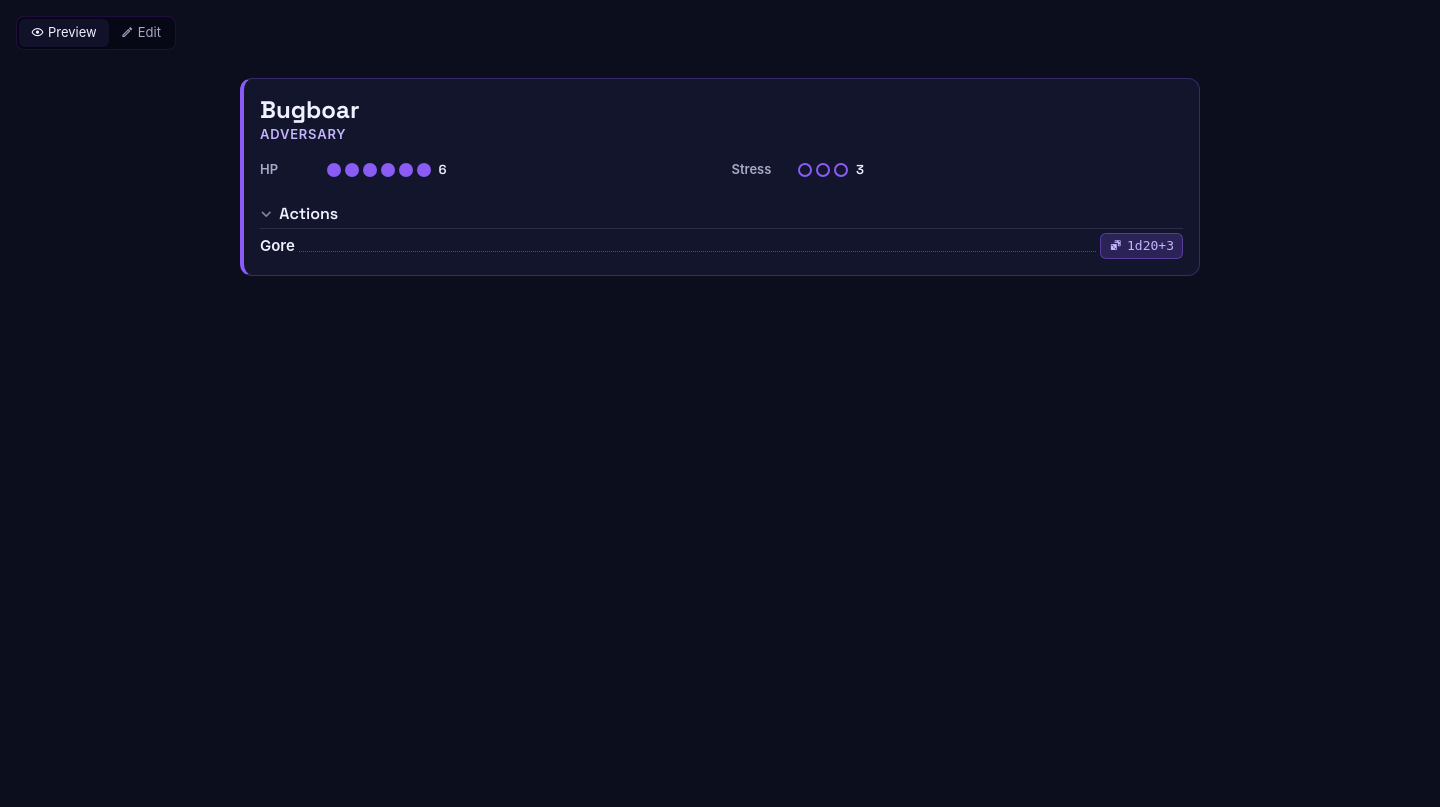
it: SheetBuilder › shows the sheet as forms, and sends nothing until something changes
Click the button "Edit": coordinates (141, 33) [109,19,173,46]
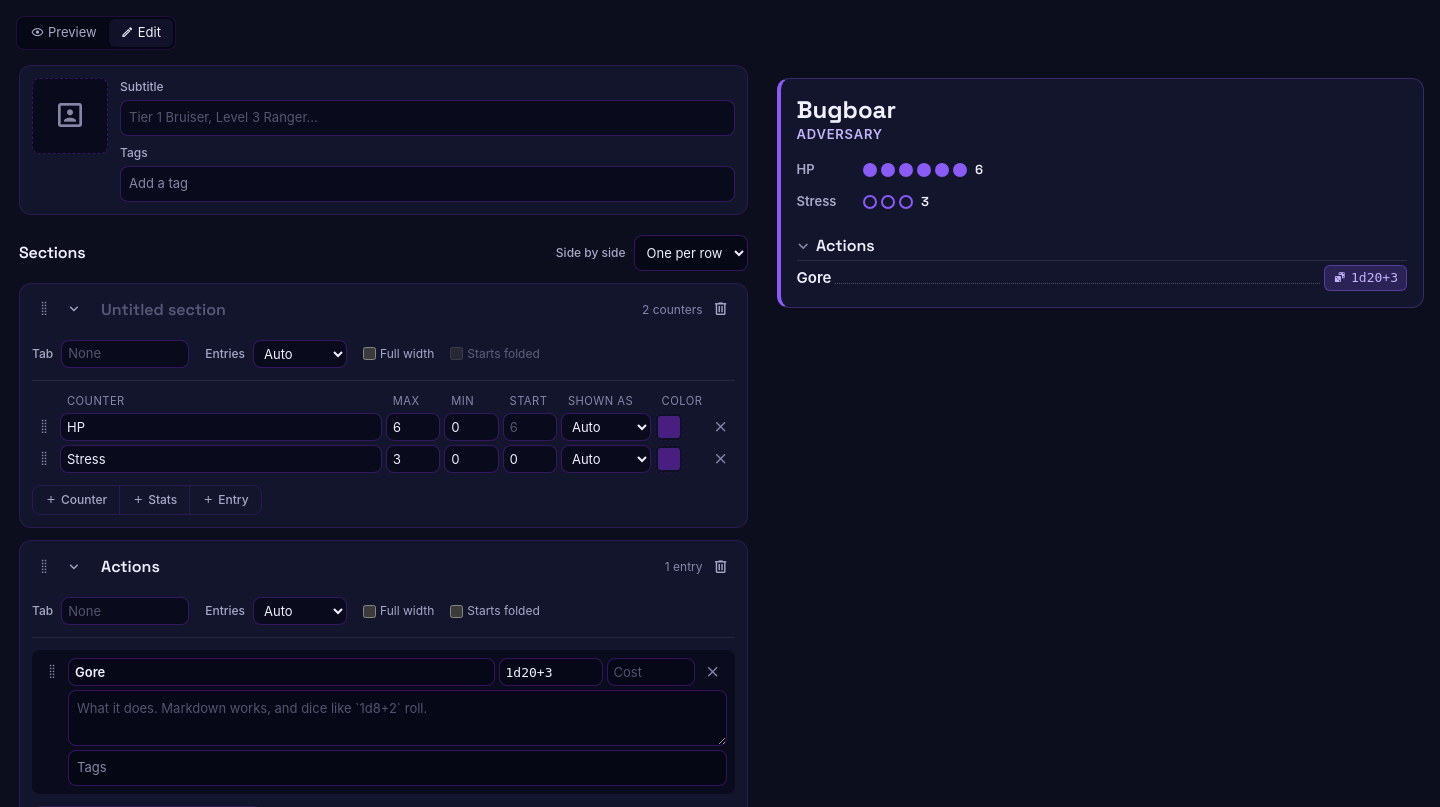
Result: the field named "Entry name" holds "Gore" at [68,658,494,686]
